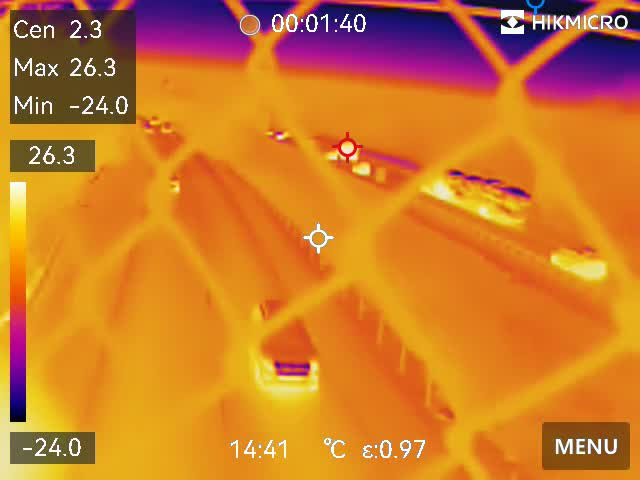heavyTruck: (415, 165, 537, 227)
vehicle: (244, 291, 323, 413), (544, 242, 612, 280)
